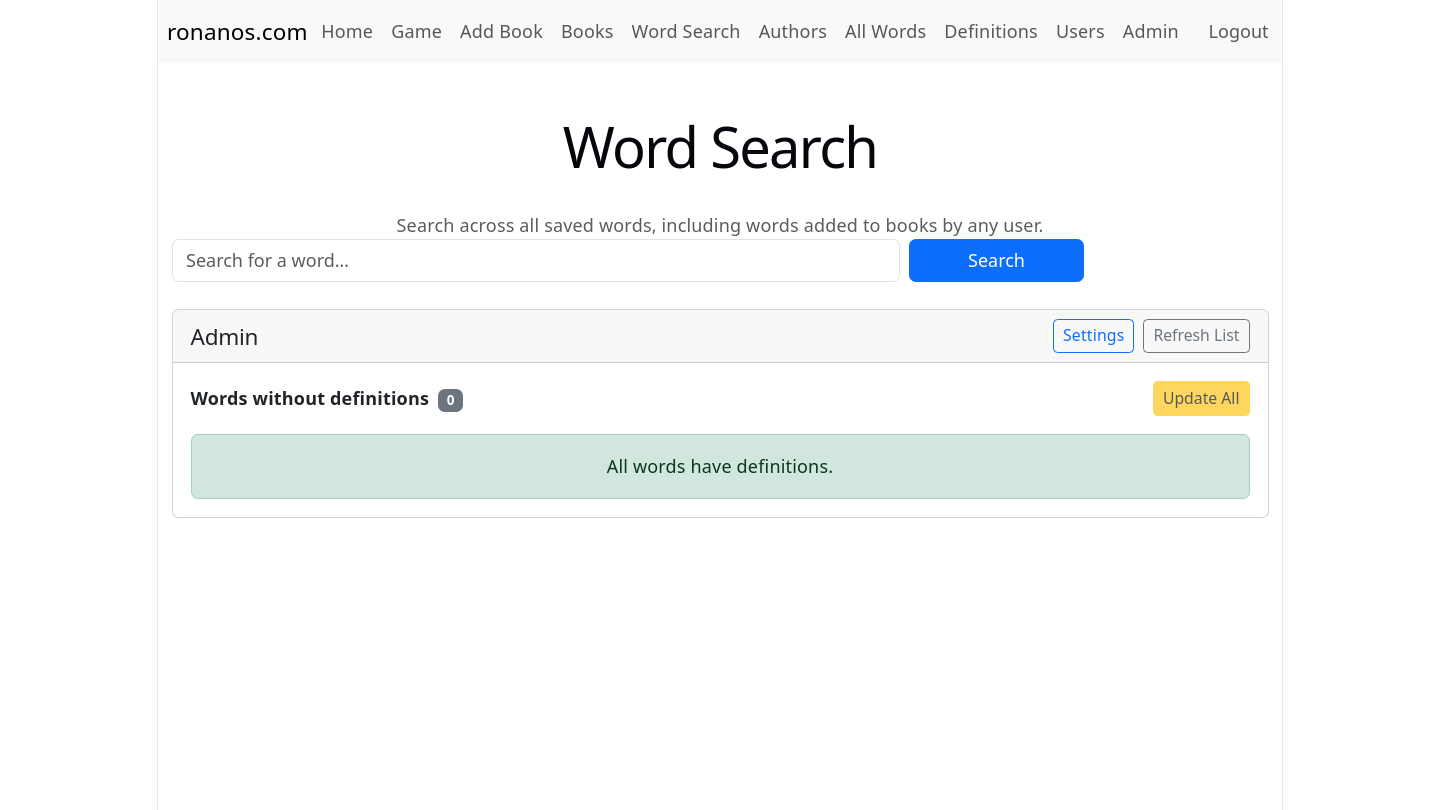
Test: WordSearch › shows empty state when no results
The width and height of the screenshot is (1440, 810).
Step 1. Type "zzzunknown" into the field with placeholder "Search for a word…" → (536, 260), box [172,239,900,282]
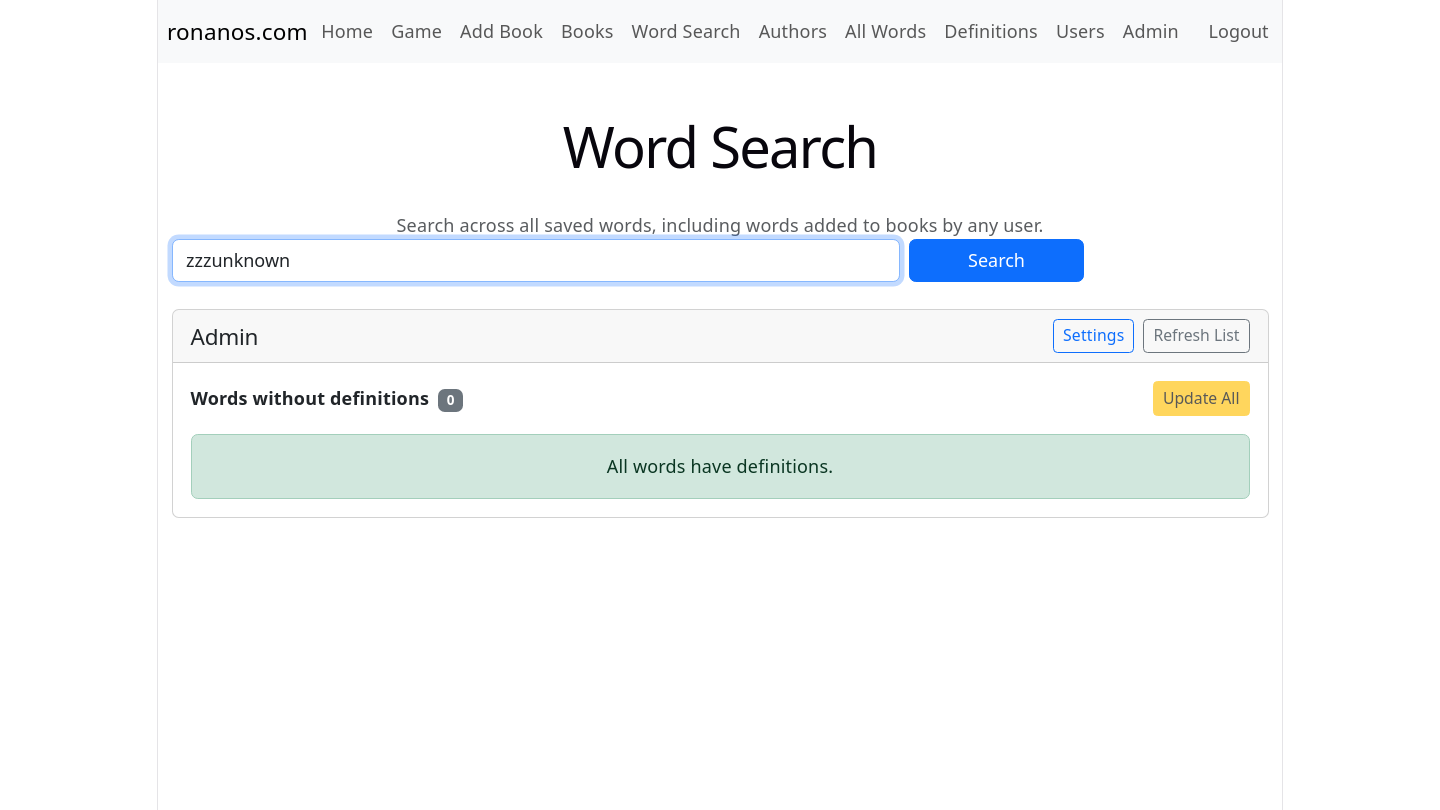
Step 2. Click the button "Search" → (996, 260), box [909,239,1084,282]
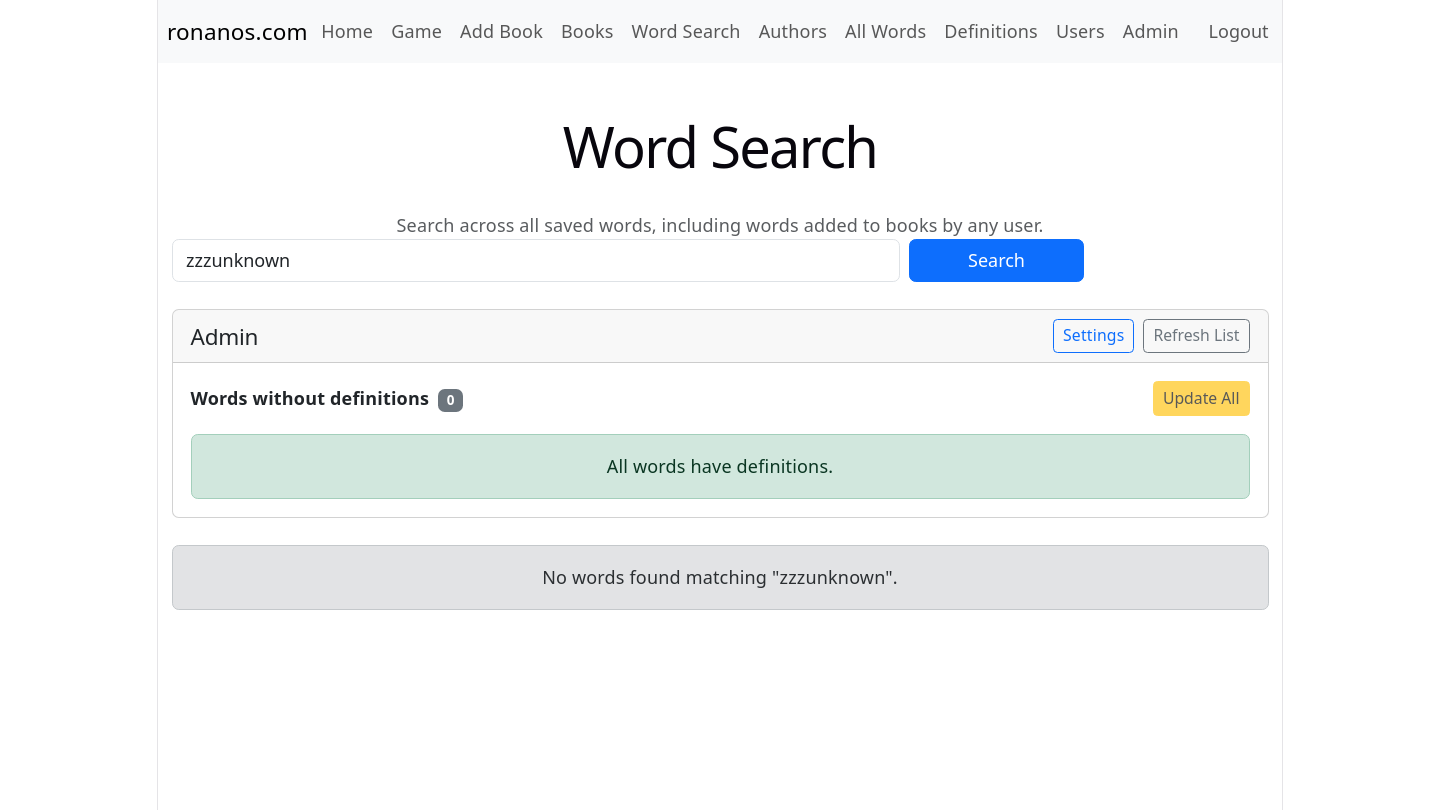
Now the text "No words found matching \"zzzunknown\"." is shown, box [172,545,1268,610]
